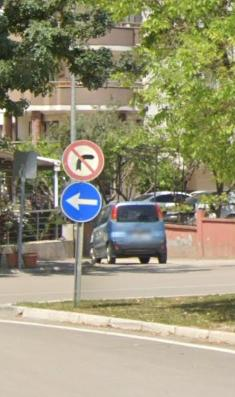rightturnsareforbidden: (62, 141, 105, 181)
turnleft: (61, 182, 103, 222)
